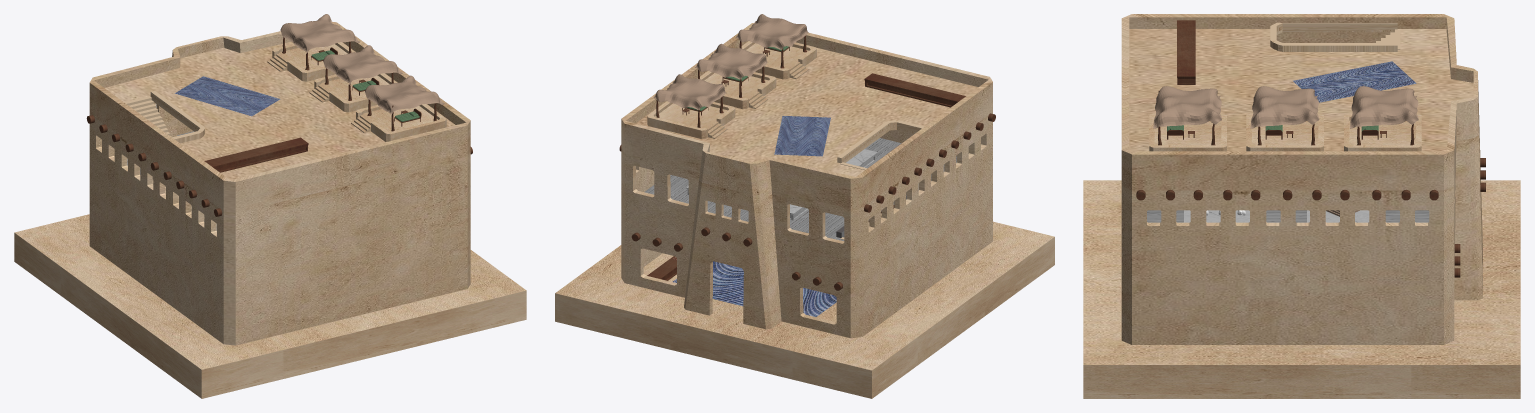
The model's file is Shop_Simple.glb.
The picture shows the model from 3 angles, left to right: view 1: azimuth 30°, elevation 25°; view 2: azimuth 150°, elevation 25°; view 3: azimuth 270°, elevation 25°; orthographic projection. The views are drawn at different scales.
Parts seen in each view (by area): view 1: structure, bottom, Third Floor, balcony.002, rug_simple.002, balcony_roof.001, balcony_roof.003, balcony_roof.002, balcony.003, balcony.001, table_wood.002, stair.001; view 2: structure, bottom, Third Floor, balcony.003, Second Floor, rug_simple.002, rug_simple.001, balcony.001, balcony.002, balcony_roof.001, balcony_roof.003, balcony_roof.002 (+1 smaller); view 3: structure, bottom, Third Floor, rug_simple.002, balcony_roof.001, balcony_roof.003, balcony_roof.002, balcony.003, balcony.001, balcony.002, table_wood.002, Second Floor (+1 smaller).
Boxes of the visible parts, x1=… form: structure: x1=89, y1=21, x2=470, y2=345; bottom: x1=14, y1=214, x2=526, y2=398; Third Floor: x1=105, y1=42, x2=455, y2=179; balcony.002: x1=351, y1=104, x2=446, y2=141; rug_simple.002: x1=175, y1=76, x2=280, y2=116; balcony_roof.001: x1=323, y1=45, x2=402, y2=84; balcony_roof.003: x1=280, y1=14, x2=359, y2=53; balcony_roof.002: x1=364, y1=75, x2=444, y2=114; balcony.003: x1=267, y1=42, x2=354, y2=81; balcony.001: x1=309, y1=73, x2=396, y2=112; table_wood.002: x1=204, y1=137, x2=308, y2=172; stair.001: x1=124, y1=96, x2=204, y2=220; structure: x1=621, y1=22, x2=992, y2=338; bottom: x1=555, y1=213, x2=1054, y2=398; Third Floor: x1=636, y1=41, x2=978, y2=176; balcony.003: x1=647, y1=101, x2=735, y2=138; Second Floor: x1=644, y1=138, x2=956, y2=240; rug_simple.002: x1=774, y1=116, x2=830, y2=156; rug_simple.001: x1=672, y1=261, x2=836, y2=316; balcony.001: x1=700, y1=71, x2=776, y2=109; balcony.002: x1=741, y1=41, x2=816, y2=79; balcony_roof.001: x1=695, y1=43, x2=767, y2=79; balcony_roof.003: x1=653, y1=74, x2=726, y2=109; balcony_roof.002: x1=736, y1=14, x2=808, y2=49; structure: x1=1121, y1=14, x2=1482, y2=344; bottom: x1=1083, y1=180, x2=1520, y2=398; Third Floor: x1=1129, y1=22, x2=1473, y2=151; rug_simple.002: x1=1293, y1=61, x2=1416, y2=102; balcony_roof.001: x1=1250, y1=86, x2=1319, y2=128; balcony_roof.003: x1=1350, y1=86, x2=1418, y2=128; balcony_roof.002: x1=1153, y1=86, x2=1221, y2=128; balcony.003: x1=1344, y1=113, x2=1421, y2=151; balcony.001: x1=1246, y1=113, x2=1323, y2=151; balcony.002: x1=1149, y1=113, x2=1226, y2=151; table_wood.002: x1=1177, y1=20, x2=1195, y2=84; Second Floor: x1=1147, y1=210, x2=1429, y2=222.
Bounding box in the file's own units: 50 × 32.14 × 50.
Materials: 17 (12 with a texture image).
